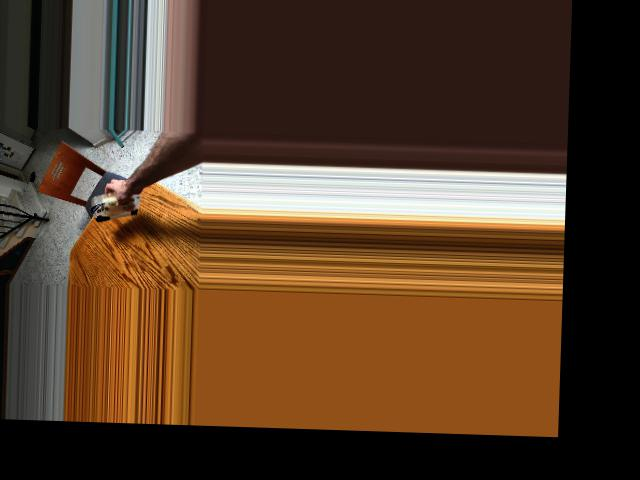cheese: (92, 189, 140, 223)
